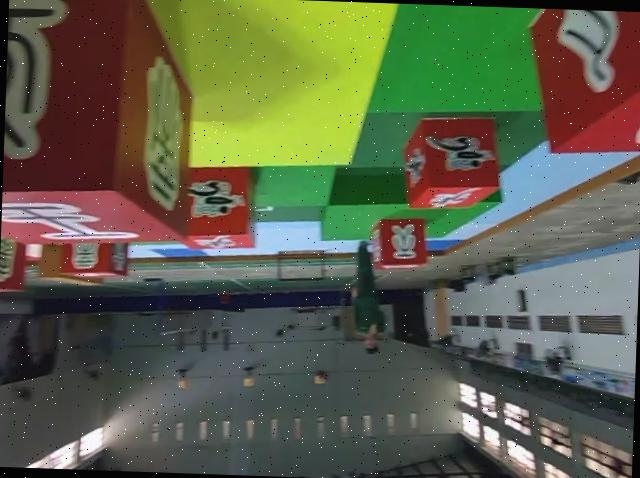R1: (403, 114, 503, 213), (181, 164, 260, 253)
R2 Fake: (0, 0, 194, 250), (57, 224, 131, 279), (367, 213, 428, 273), (0, 227, 27, 297)
R2 Real: (524, 7, 640, 158)
